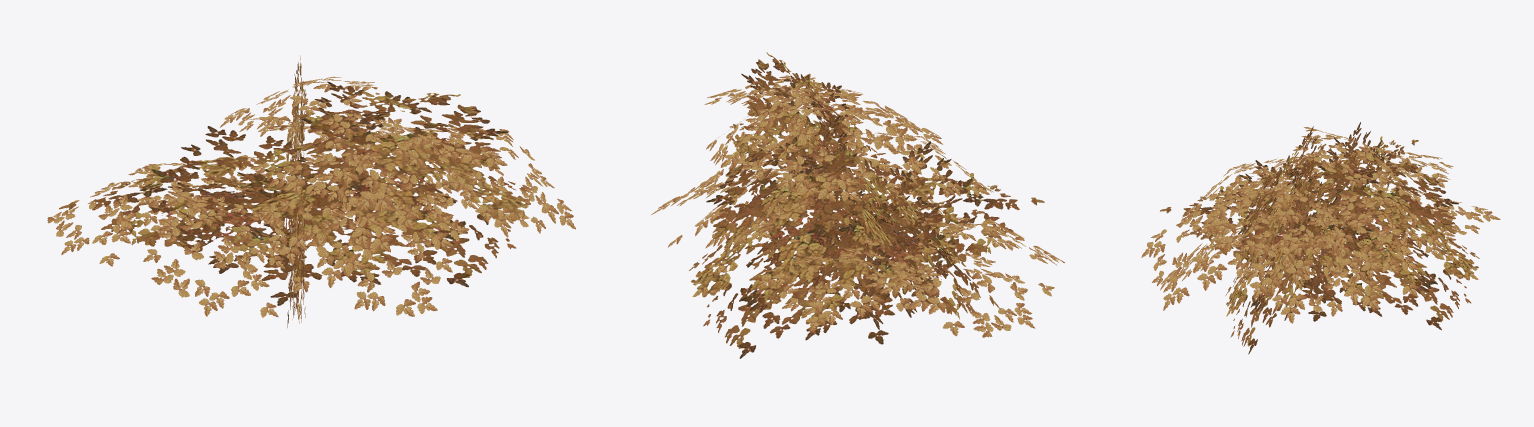
Rendered from decd_saplingclump_sm_a1_l1.fbx.
3 renders of one model, left to right at view 1: azimuth 30°, elevation 25°; view 2: azimuth 150°, elevation 25°; view 3: azimuth 270°, elevation 25°, orthographic. The views are drawn at different scales.
Visible parts, largest first — view 1: mesh_node; view 2: mesh_node; view 3: mesh_node.
Boxes of the visible parts, x1,y1,x2,y2 form: mesh_node: (47, 55, 575, 327); mesh_node: (651, 52, 1064, 358); mesh_node: (1141, 122, 1500, 354).
Bounding box in the file's own units: 3.59 × 2.28 × 3.26.
